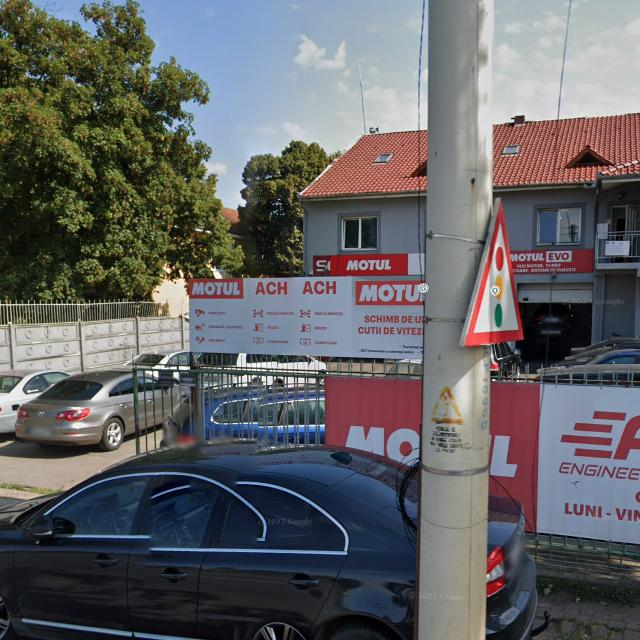warn_traffic_light: (460, 198, 524, 346)
